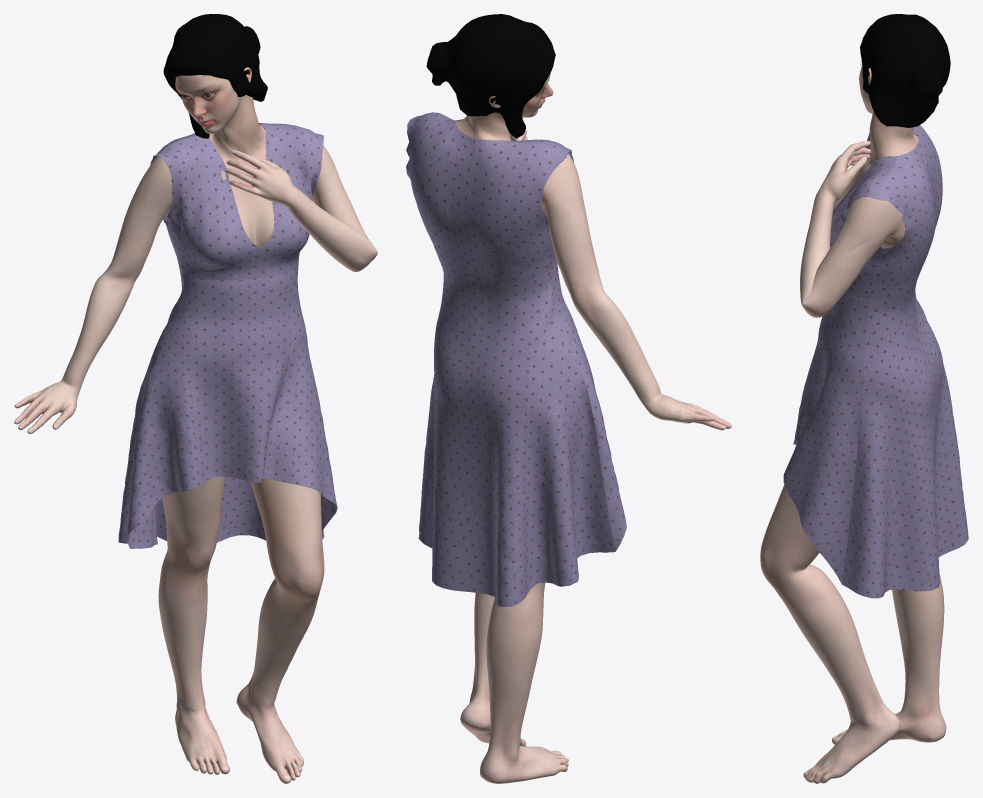
File: Custom_View_9__Dramatic.obj
3 renders of one model, left to right at view 1: azimuth 30°, elevation 25°; view 2: azimuth 150°, elevation 25°; view 3: azimuth 270°, elevation 25°, orthographic. The views are drawn at different scales.
Size of the model in its own units: 813 by 1767 by 447.
